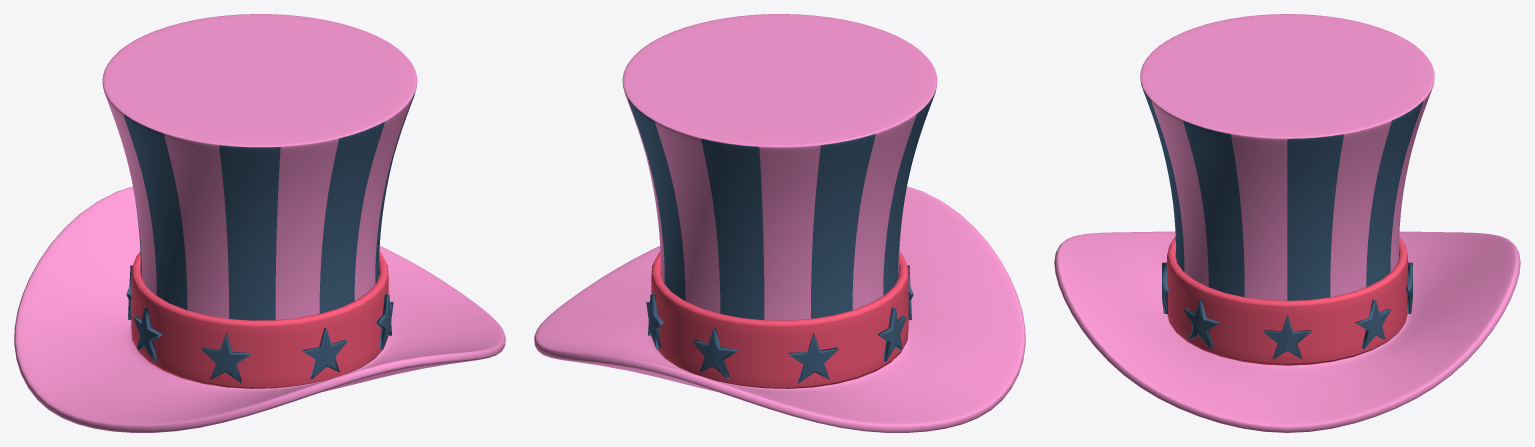
Rendered from ToyObject_169.fbx.
3 renders of one model, left to right at view 1: azimuth 30°, elevation 25°; view 2: azimuth 150°, elevation 25°; view 3: azimuth 270°, elevation 25°, orthographic. The views are drawn at different scales.
Parts seen in each view (by area): view 1: object-1.005; view 2: object-1.005; view 3: object-1.005.
Part boxes in pixels (bbox=[...]): object-1.005: bbox=[14, 14, 505, 432]; object-1.005: bbox=[534, 14, 1025, 432]; object-1.005: bbox=[1054, 14, 1520, 432].
Bounding box in the file's own units: 0.1498 × 0.0943 × 0.1523.
